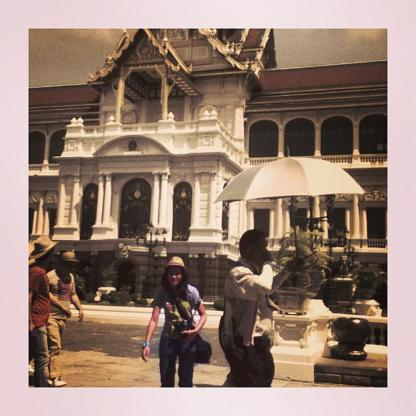face: (252, 239, 270, 263), (169, 267, 183, 285), (62, 261, 74, 277)
